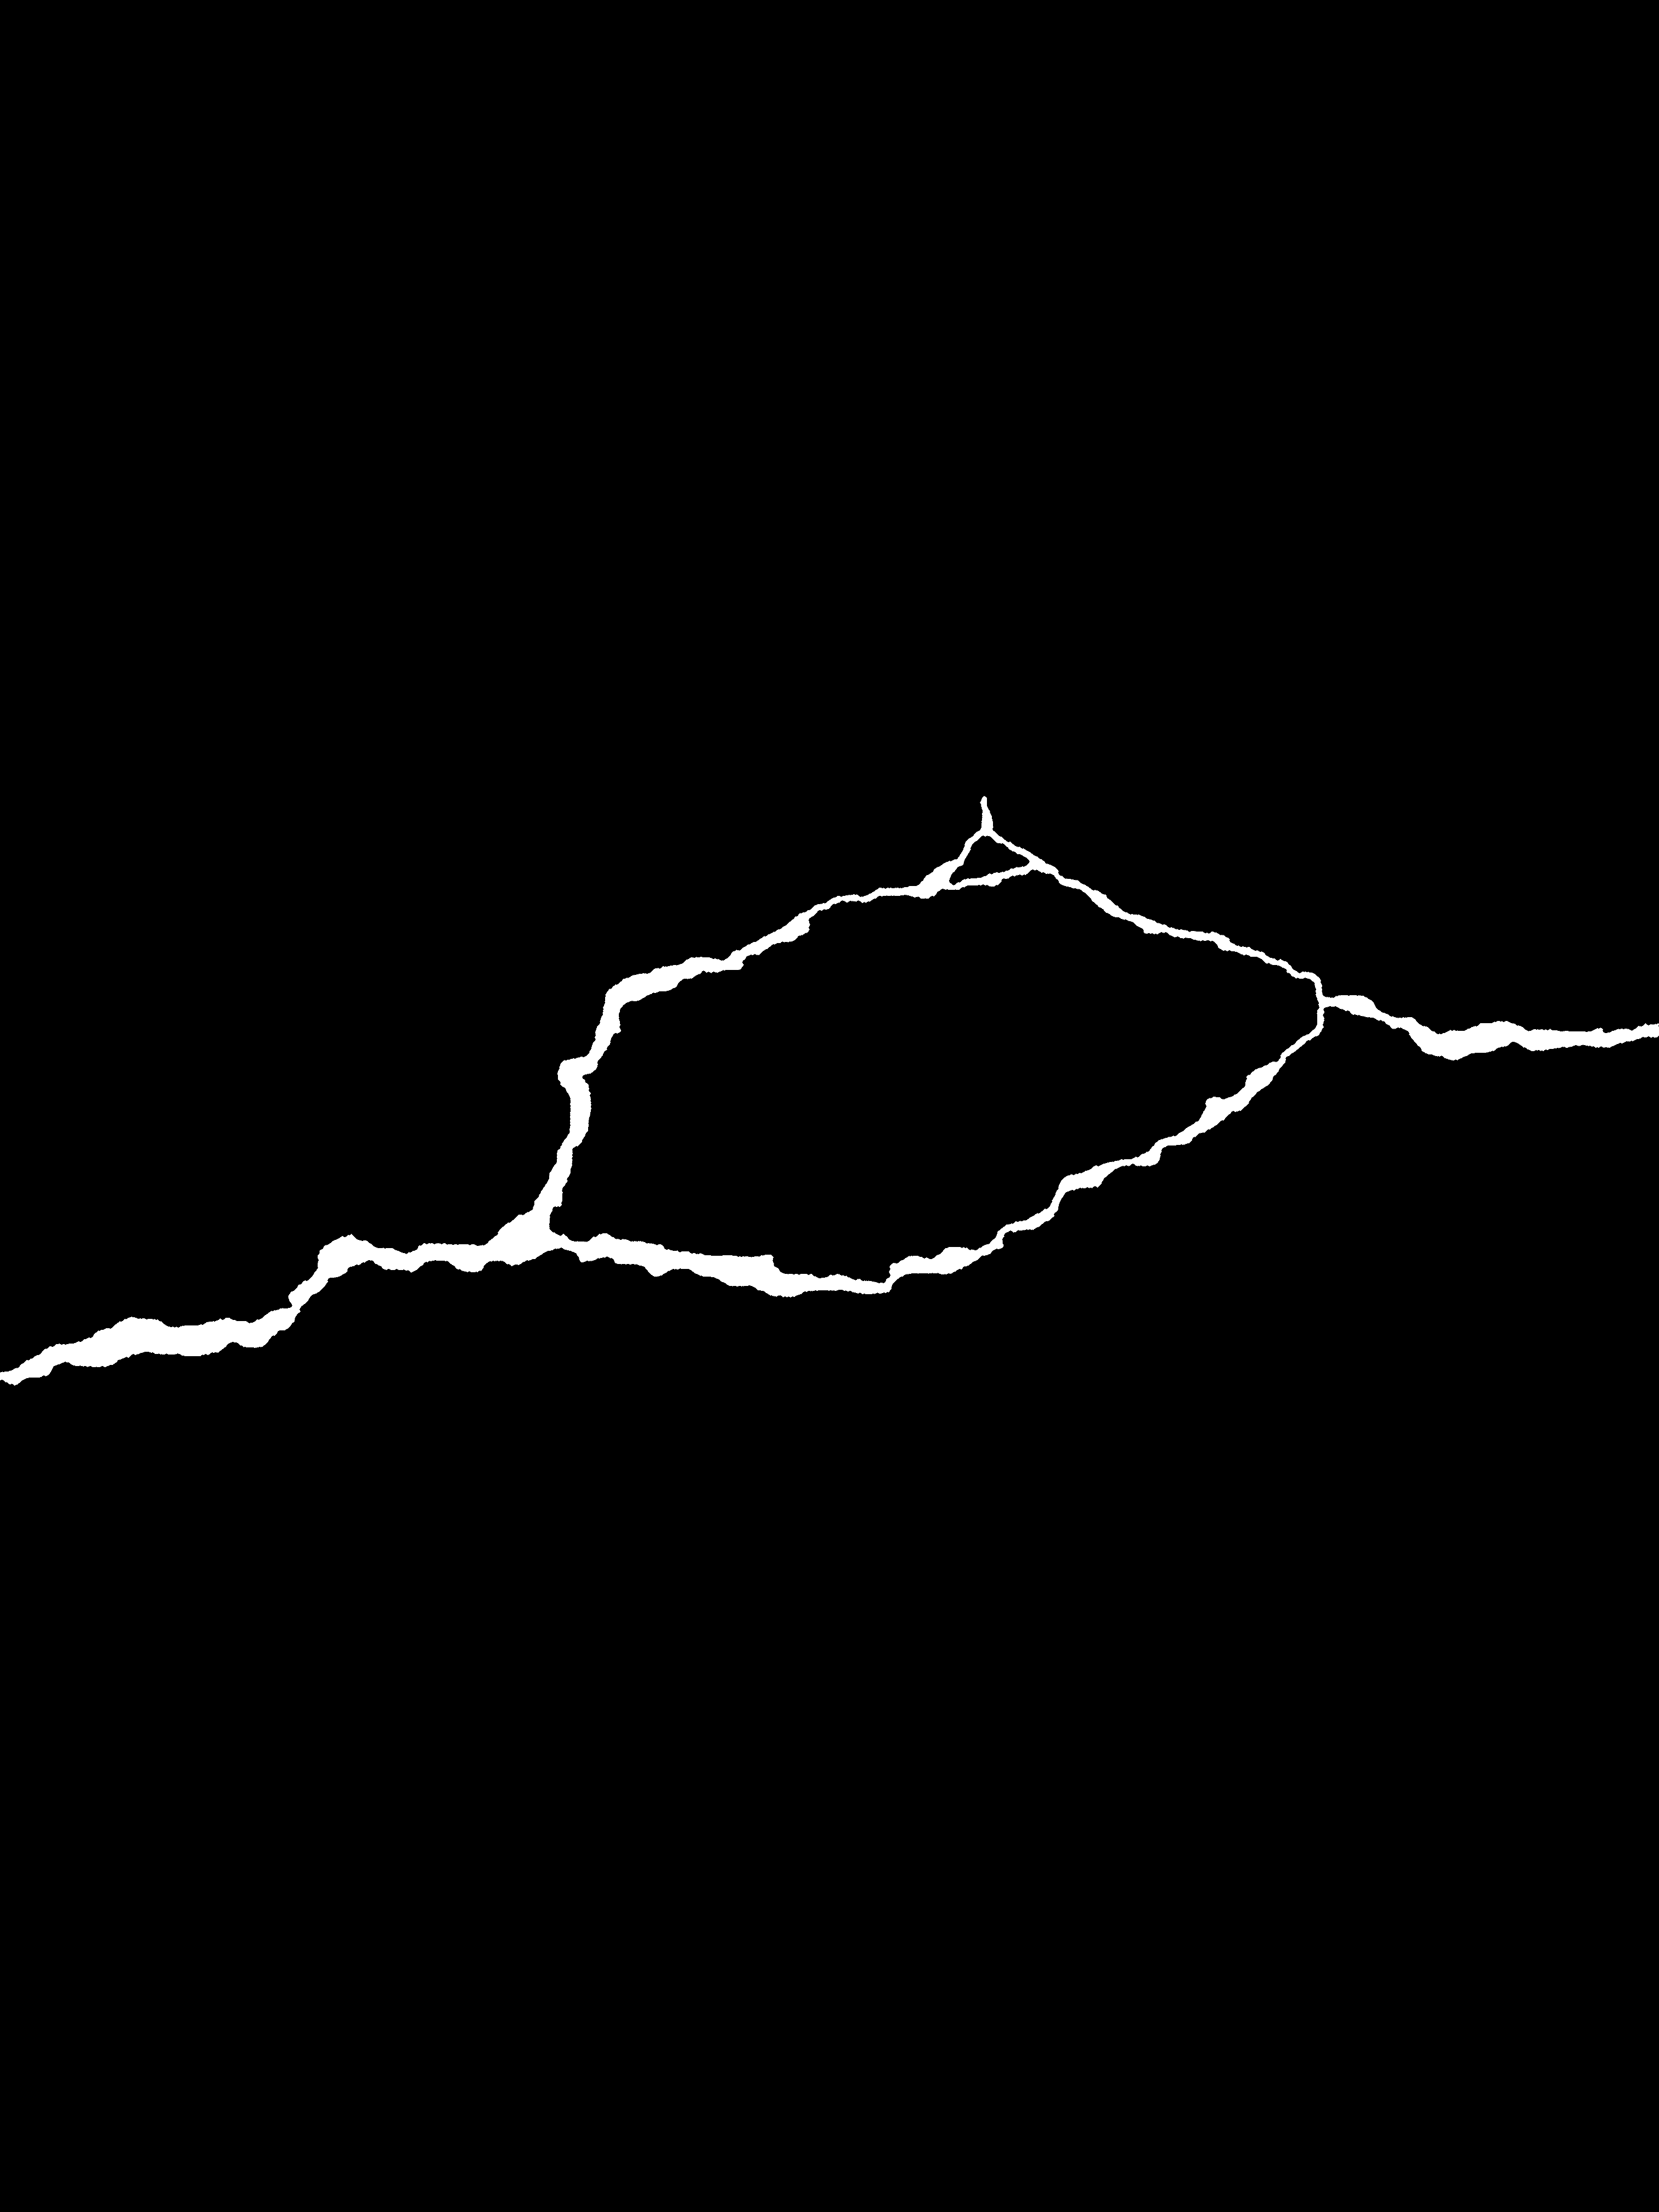Crack: (0, 784, 1659, 1409)
